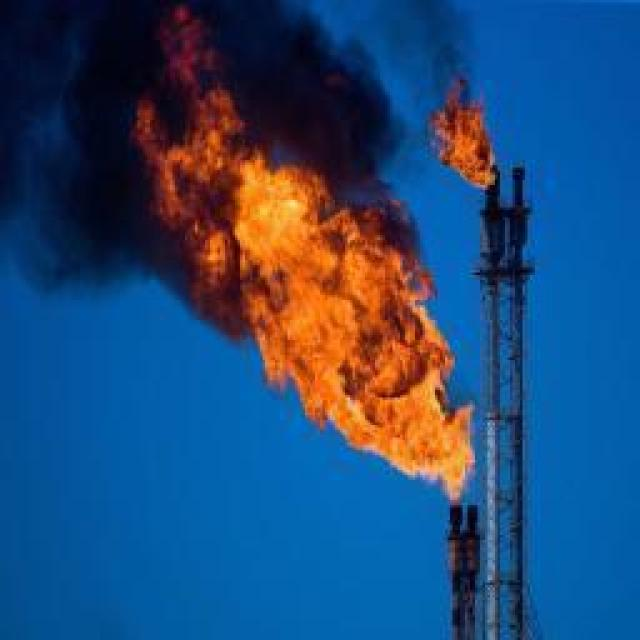fire: (131, 6, 477, 504), (428, 74, 498, 191)
smoke: (1, 0, 402, 329), (361, 0, 476, 147)
